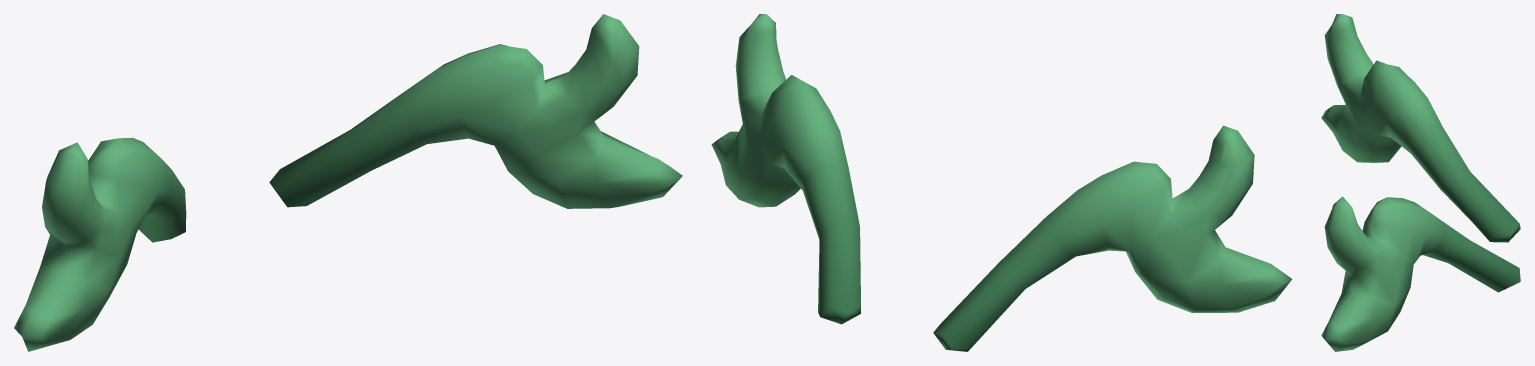
Rendered from Headgear_24.fbx.
3 renders of one model, left to right at view 1: azimuth 30°, elevation 25°; view 2: azimuth 150°, elevation 25°; view 3: azimuth 270°, elevation 25°, orthographic. The views are drawn at different scales.
Visible parts, largest first — view 1: Headgear_24; view 2: Headgear_24; view 3: Headgear_24.
Part boxes in pixels (bbox=[...]): Headgear_24: bbox=[14, 14, 682, 351]; Headgear_24: bbox=[711, 14, 1292, 351]; Headgear_24: bbox=[1321, 14, 1520, 351].
Size of the model in its own units: 103 by 33.67 by 37.97.
